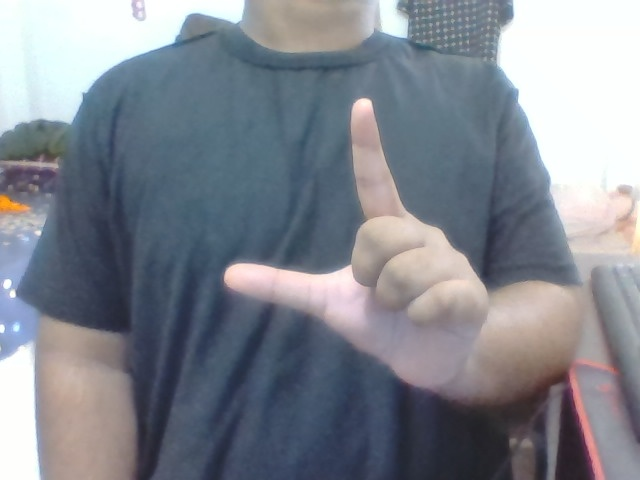L: (205, 91, 500, 401)
